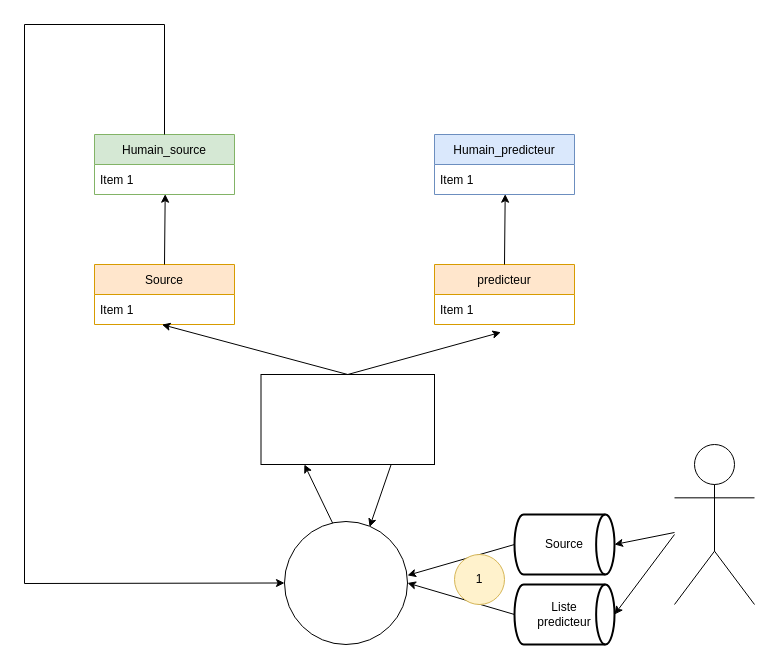
The diagram is 772 pixels wide and 663 high, and some of its shapes have lost their labels. The shapes that lost their labels are listed below. From the top down, each one's centre as x and y in pixels, then its label:
pixel 347 419: Processus (Squelette)
pixel 714 524: Actor
pixel 346 582: Interface
